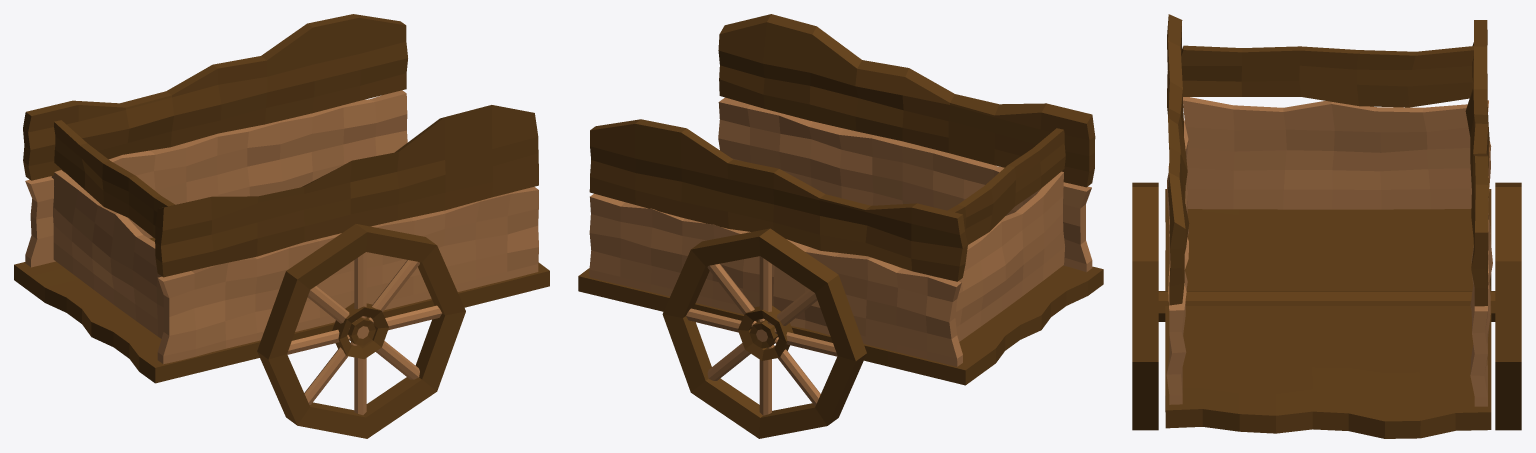
The model's file is Araba.fbx.
3 renders of one model, left to right at view 1: azimuth 30°, elevation 25°; view 2: azimuth 150°, elevation 25°; view 3: azimuth 270°, elevation 25°, orthographic. The views are drawn at different scales.
Visible parts, largest first — view 1: Araba, Tekerler; view 2: Araba, Tekerler; view 3: Araba, Tekerler.
Part boxes in pixels (bbox=[...]): Araba: bbox=[14, 14, 549, 383]; Tekerler: bbox=[257, 224, 465, 438]; Araba: bbox=[578, 14, 1103, 385]; Tekerler: bbox=[662, 228, 866, 438]; Araba: bbox=[1165, 14, 1492, 438]; Tekerler: bbox=[1132, 182, 1521, 430].
Size of the model in its own units: 414 by 279 by 296.
